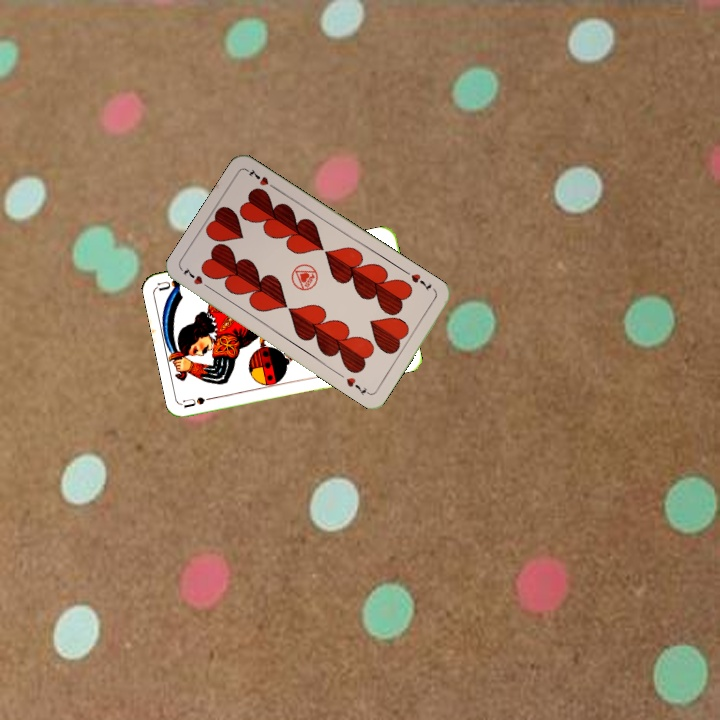H7: (178, 263, 214, 293), (407, 269, 434, 293)
SU: (180, 392, 221, 410)
